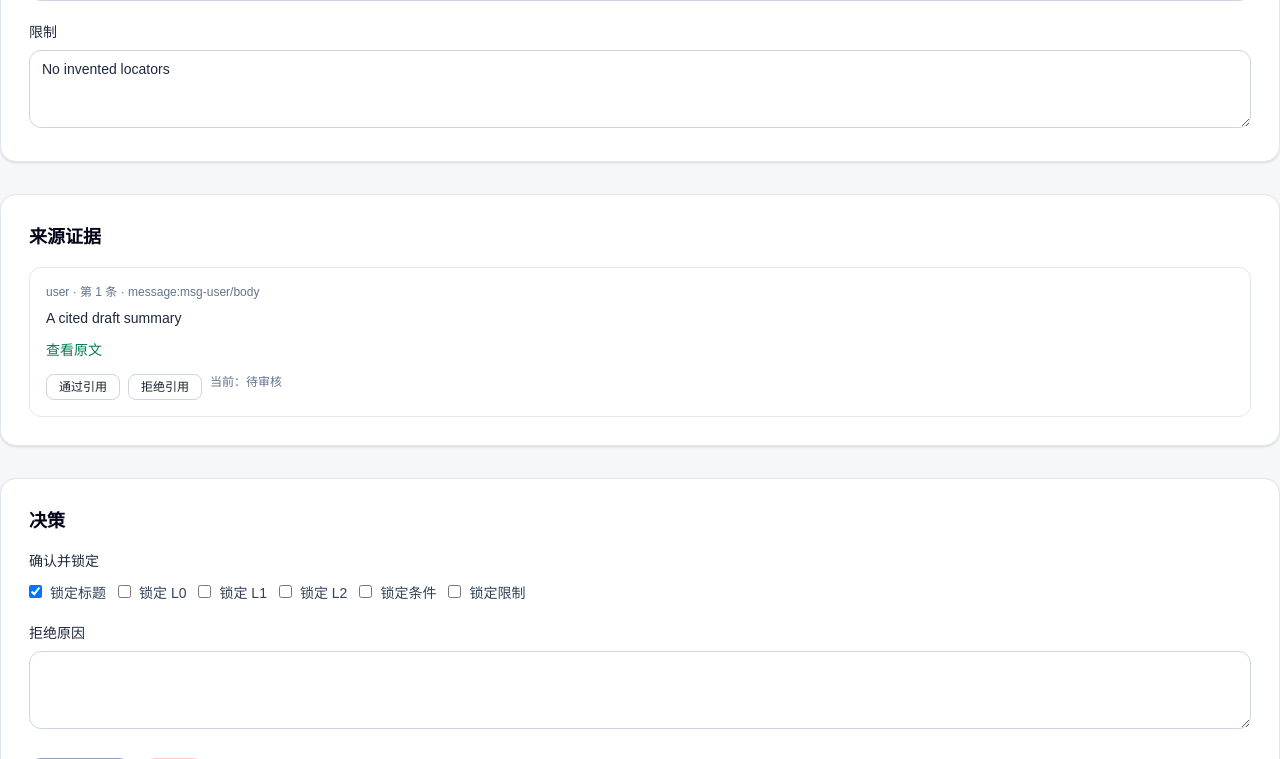
Test: ReviewForm › starts citations pending and can approve or reject them
(page scrolled)
Expected: the text "当前：待审核" is shown, [210,375,282,389]
Click the button "通过引用" at (83, 387), box [46,374,120,400]
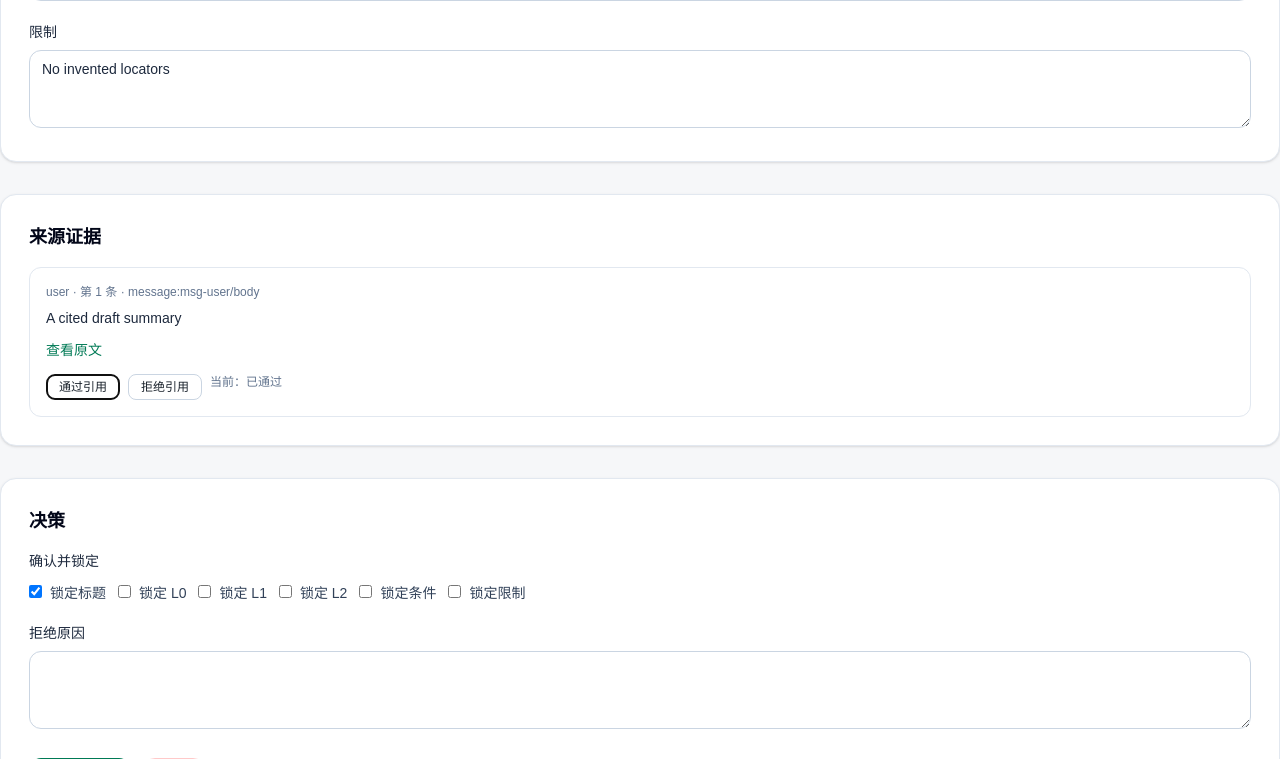
Expected: the text "当前：已通过" is shown, [210,375,282,389]
Click the button "拒绝引用" at (165, 387), box [128,374,202,400]
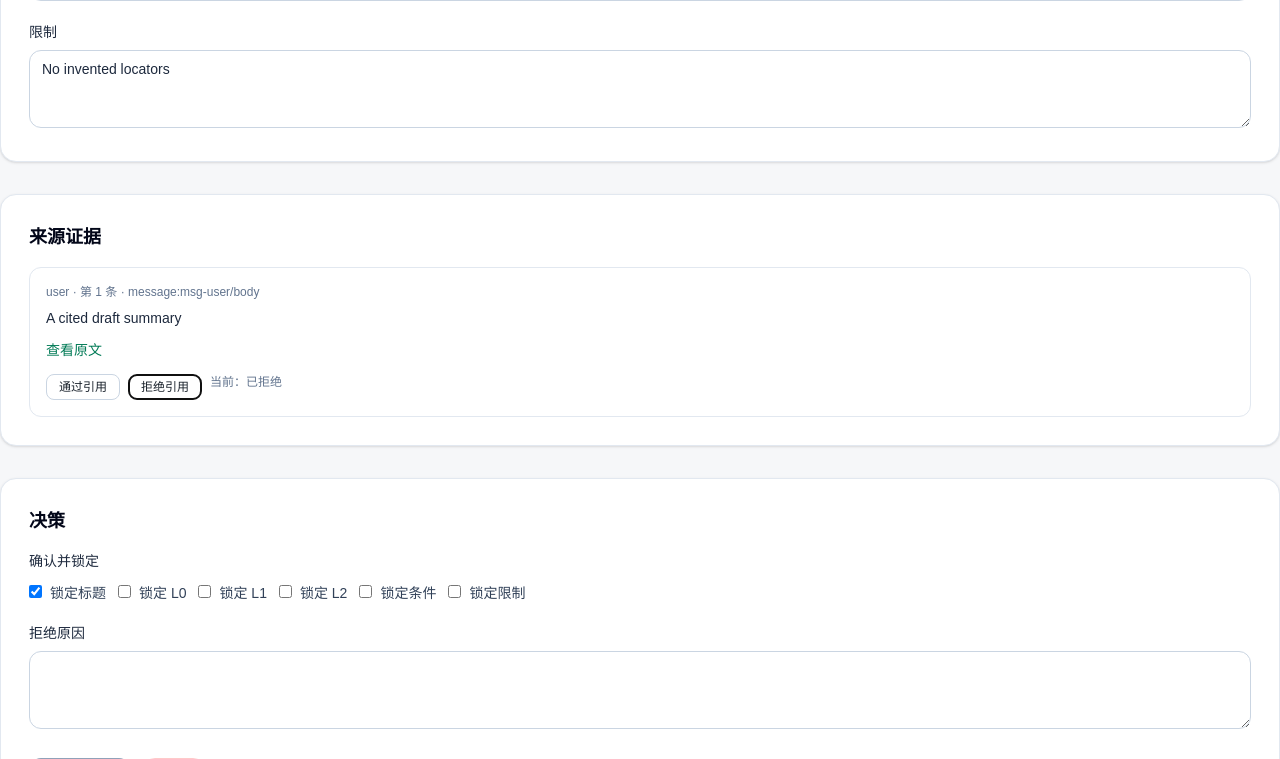
Expected: the text "当前：已拒绝" is shown, [210,375,282,389]
